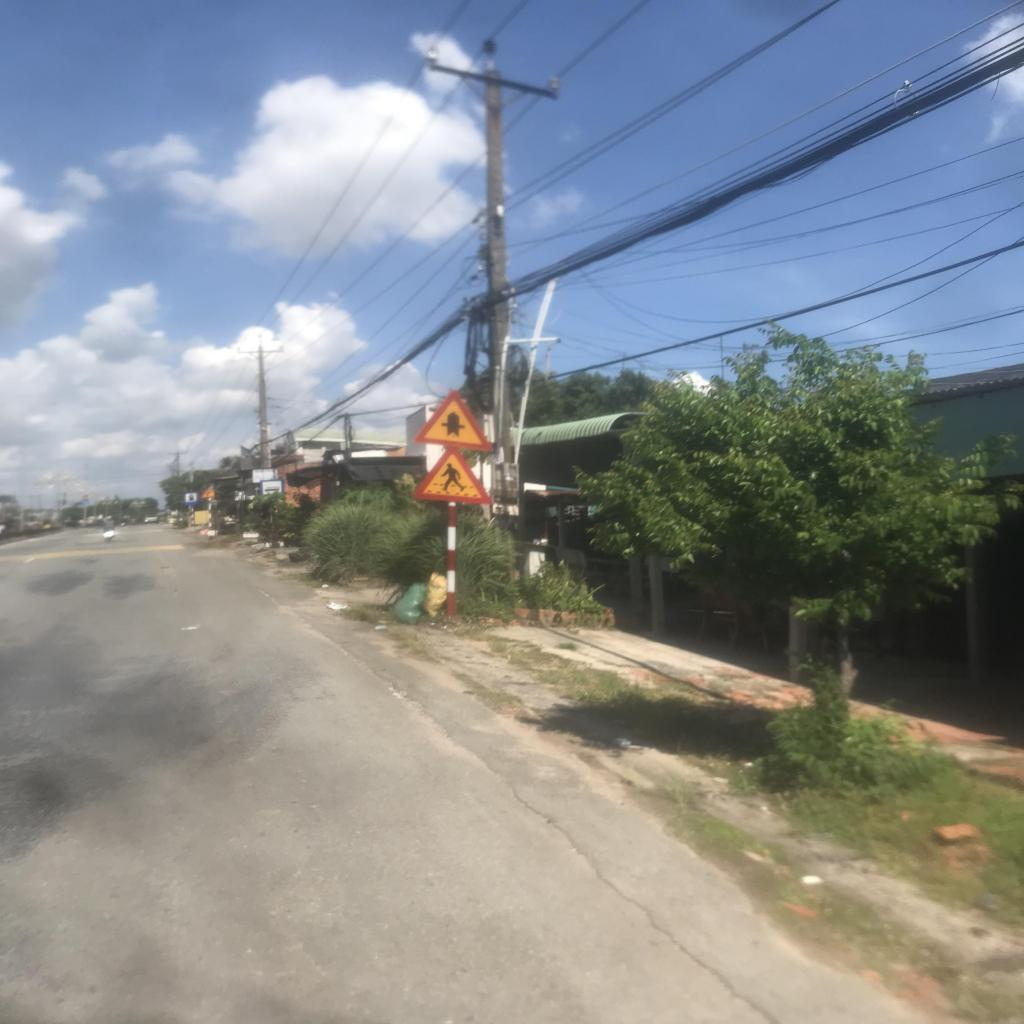cho_ngoat_nguy_hiem_ben_phai: (200, 484, 219, 498)
chu_y_nguoi_di_bo_cat_ngang: (412, 443, 493, 504)
giao_nhau_voi_duong_khong_uu_tien: (411, 389, 494, 451)
khac: (185, 492, 199, 506)
